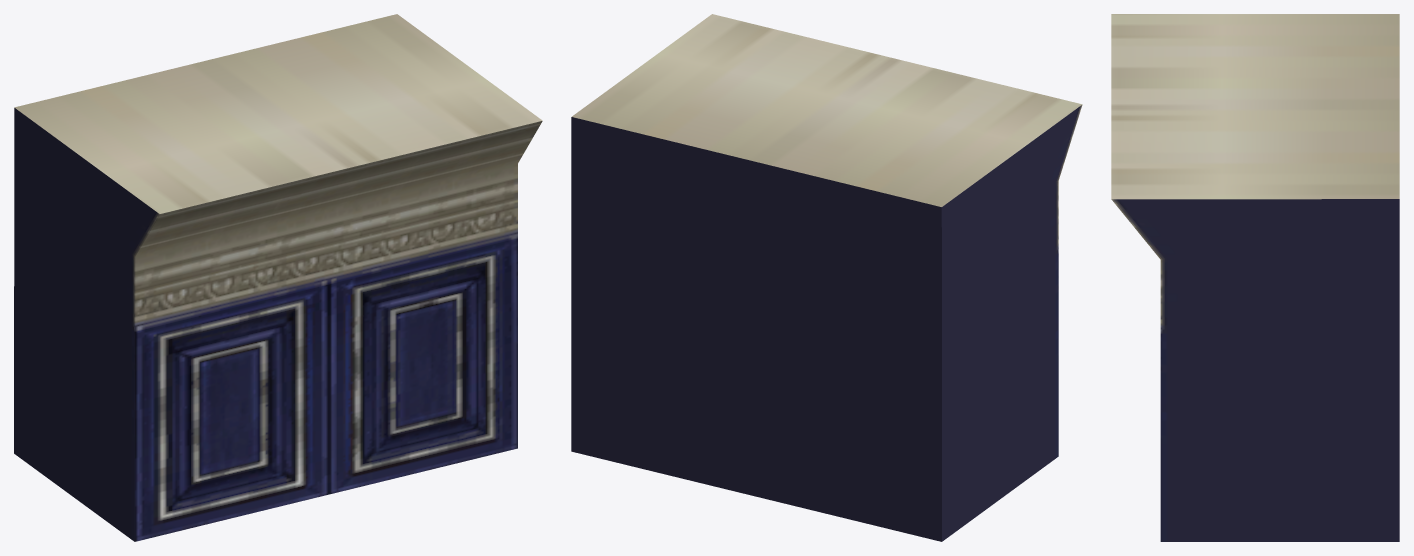
The model's file is furni_0201125.FBX.
The picture shows the model from 3 angles, left to right: view 1: azimuth 30°, elevation 25°; view 2: azimuth 150°, elevation 25°; view 3: azimuth 270°, elevation 25°; orthographic projection. The views are drawn at different scales.
Visible parts, largest first — view 1: furni_0201125; view 2: furni_0201125; view 3: furni_0201125.
Boxes of the visible parts, x1,y1,x2,y2 form: furni_0201125: (14,14,542,541); furni_0201125: (571,14,1082,541); furni_0201125: (1111,14,1399,541).
Bounding box in the file's own units: 81.43 × 70.29 × 53.58.
1 material, 1 textured.
